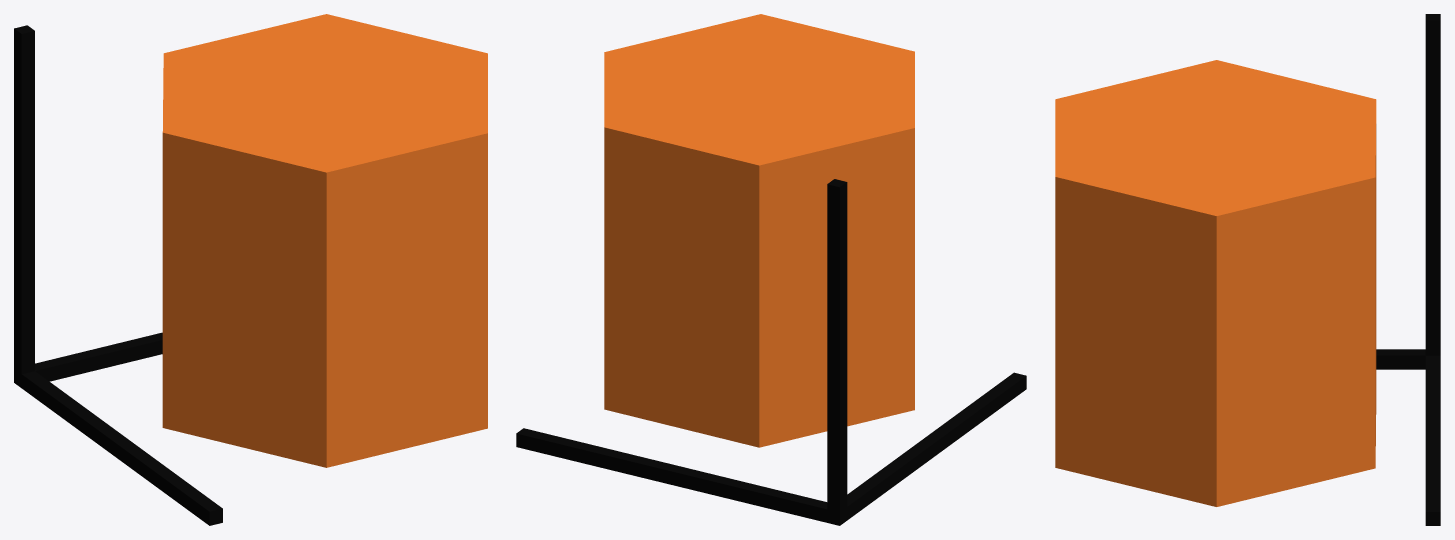
File: prisma.gltf
3 renders of one model, left to right at view 1: azimuth 30°, elevation 25°; view 2: azimuth 150°, elevation 25°; view 3: azimuth 270°, elevation 25°, orthographic. The views are drawn at different scales.
Size of the model in its own units: 0.0638 by 0.06 by 0.06.
